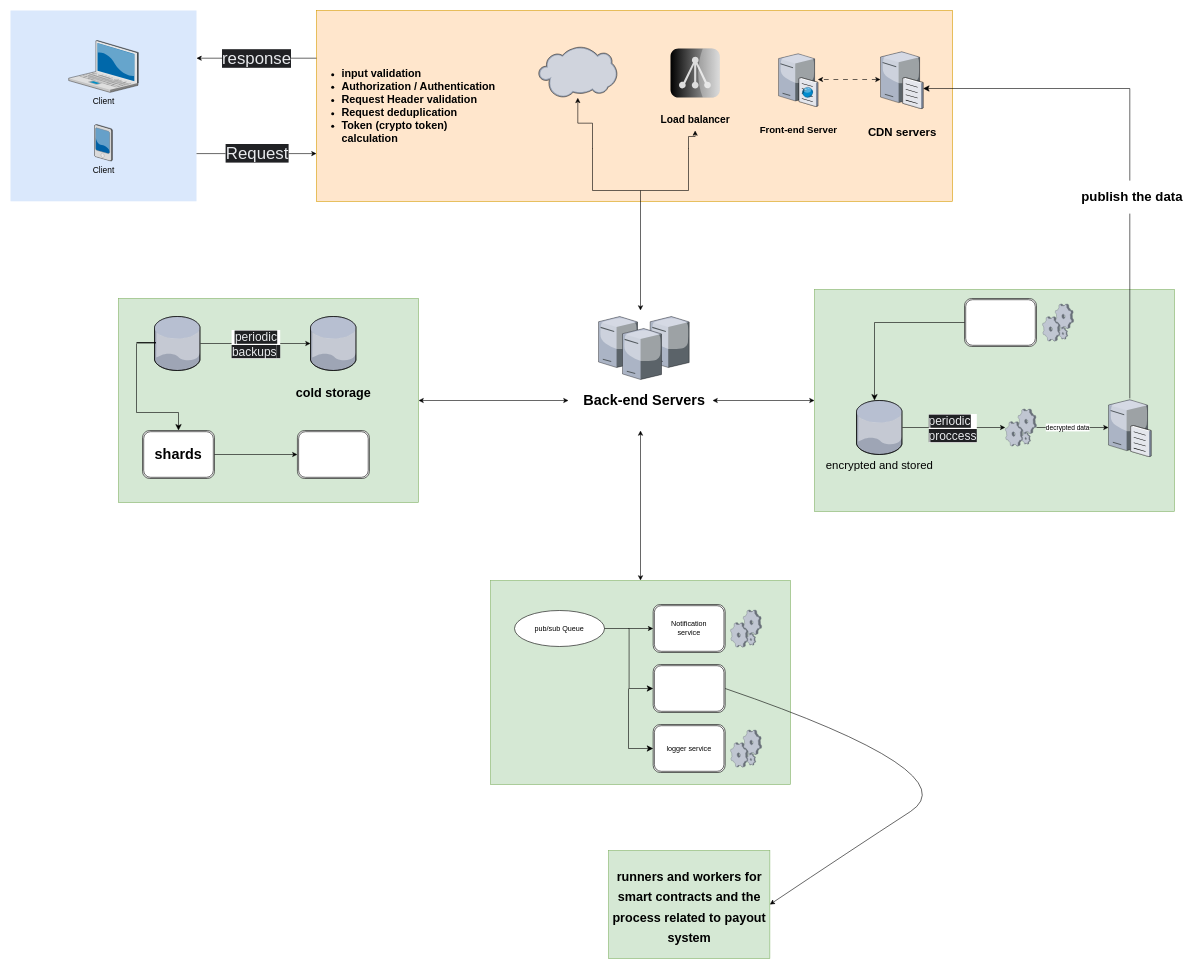
This 1193x969 diagram has some shape labels left out. The centre of each missing label's shape, as x and y in pixels:
"API gateway" belongs at pixel 577 72.
"databases" belongs at pixel 177 343.
"Payout service" belongs at pixel 689 688.
"process.py (getting the quiz quotations)" belongs at pixel 1000 322.
"replicas" belongs at pixel 333 454.
